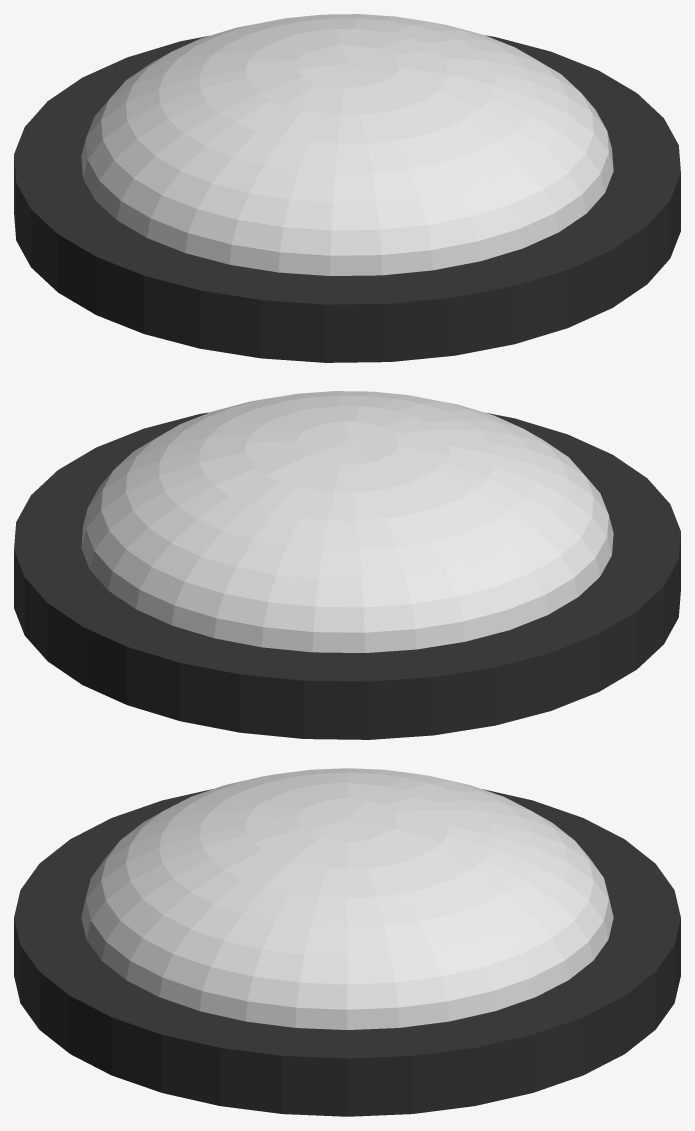
File: Lamp.fbx
The picture shows the model from 3 angles, top to bottom: view 1: azimuth 30°, elevation 25°; view 2: azimuth 150°, elevation 25°; view 3: azimuth 270°, elevation 25°; orthographic projection.
Visible parts, largest first — view 1: Lamp; view 2: Lamp; view 3: Lamp.
Part boxes in pixels (x1,y1,x2,y2): Lamp: [14, 14, 680, 362]; Lamp: [14, 391, 680, 739]; Lamp: [14, 768, 680, 1116].
Size of the model in its own units: 61.16 by 15.93 by 61.16.
